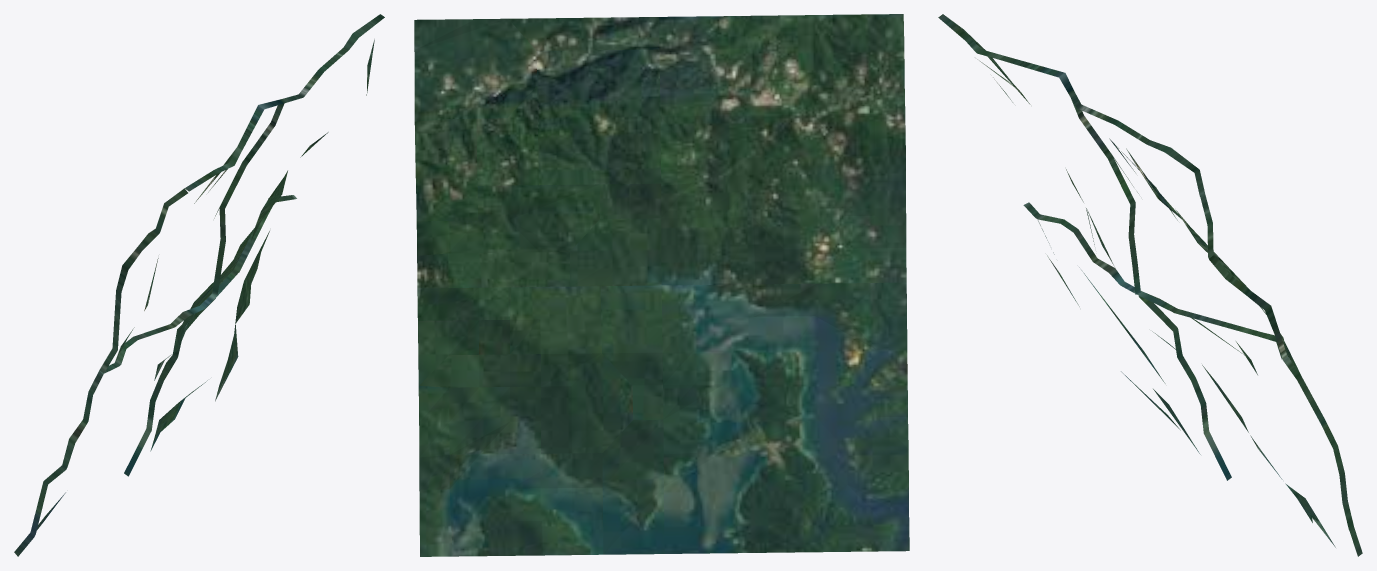
3 views of the same model, side by side, from view 1: azimuth 30°, elevation 25°; view 2: azimuth 150°, elevation 25°; view 3: azimuth 270°, elevation 25° (orthographic). The views are drawn at different scales.
Bounding box in the file's own units: 4756 × 4613 × 4082.
Materials: 1 (1 with a texture image).
